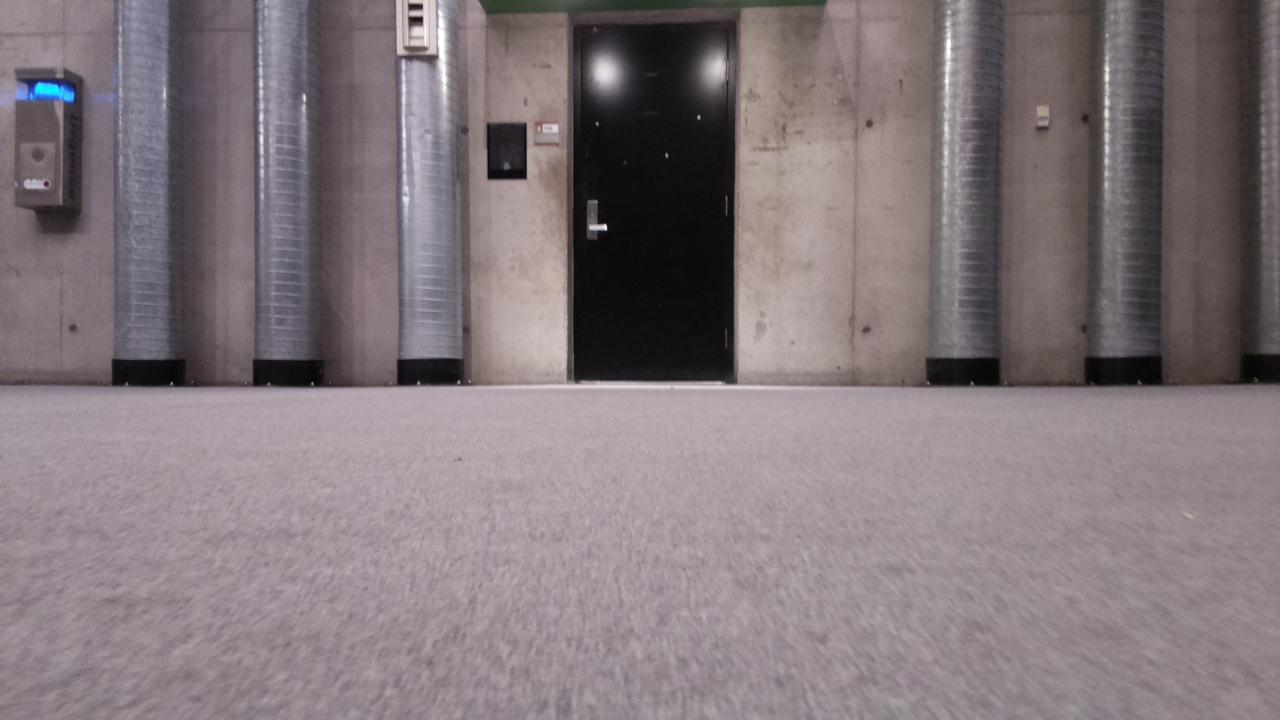door: (580, 29, 726, 380)
sign: (534, 121, 558, 144)
